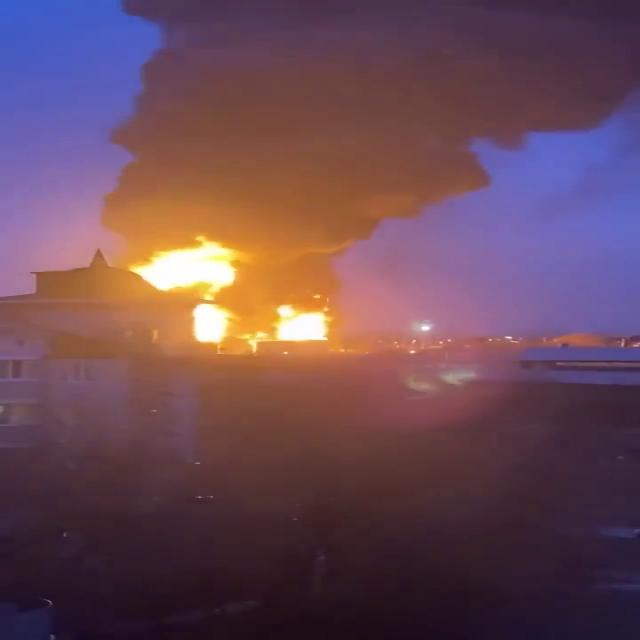Fire: (128, 242, 233, 294), (253, 300, 344, 352), (191, 302, 244, 346)
Smoke: (102, 0, 640, 252)
